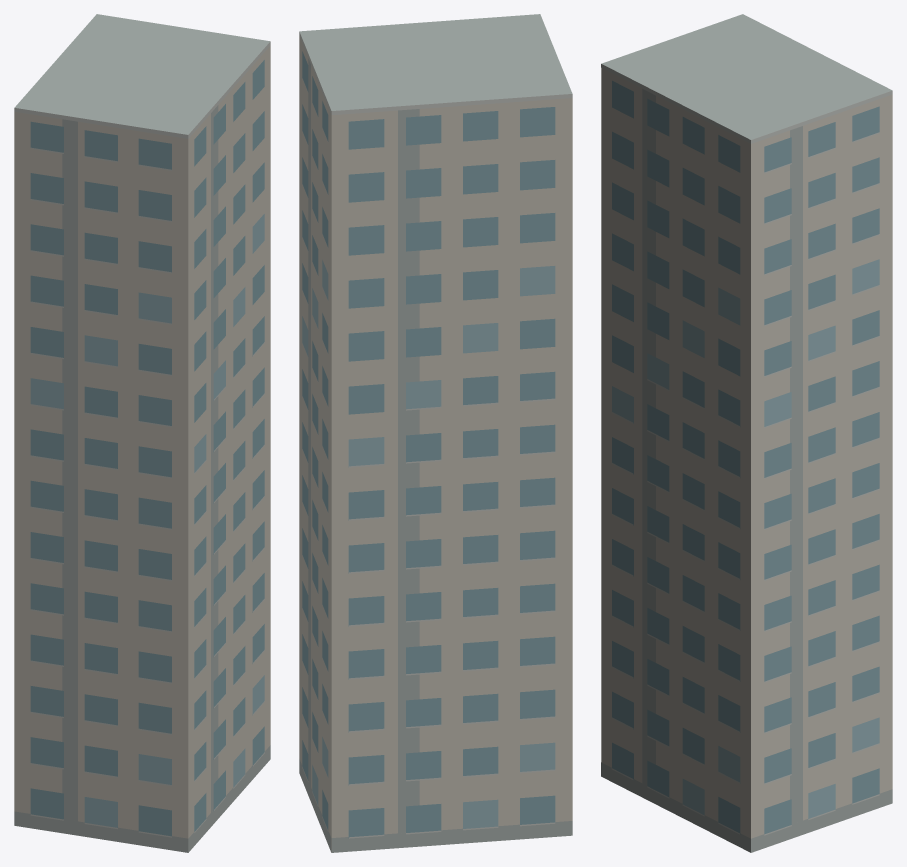
The model's file is residential-61d19e99-0e6d-4f76-aff9-f953b1e09370.glb.
3 renders of one model, left to right at view 1: azimuth 30°, elevation 25°; view 2: azimuth 150°, elevation 25°; view 3: azimuth 270°, elevation 25°, orthographic. The views are drawn at different scales.
Parts seen in each view (by area): view 1: residential-61d19e99-0e6d-4f76-aff9-f953b1e09370.tmp; view 2: residential-61d19e99-0e6d-4f76-aff9-f953b1e09370.tmp; view 3: residential-61d19e99-0e6d-4f76-aff9-f953b1e09370.tmp.
Boxes of the visible parts, bbox=[...] form: residential-61d19e99-0e6d-4f76-aff9-f953b1e09370.tmp: bbox=[14, 14, 270, 852]; residential-61d19e99-0e6d-4f76-aff9-f953b1e09370.tmp: bbox=[299, 14, 572, 852]; residential-61d19e99-0e6d-4f76-aff9-f953b1e09370.tmp: bbox=[601, 14, 892, 852].
Bounding box in the file's own units: 16.7 × 44 × 16.32.
